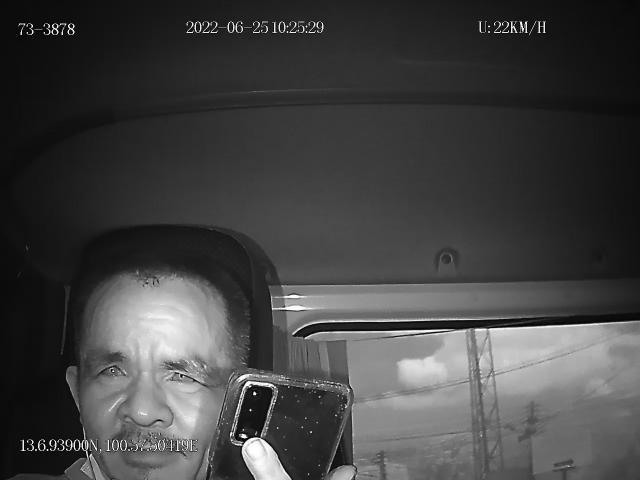PhoneUse: (211, 368, 355, 480)
SafeDriving: (88, 350, 135, 388), (157, 356, 205, 391)
